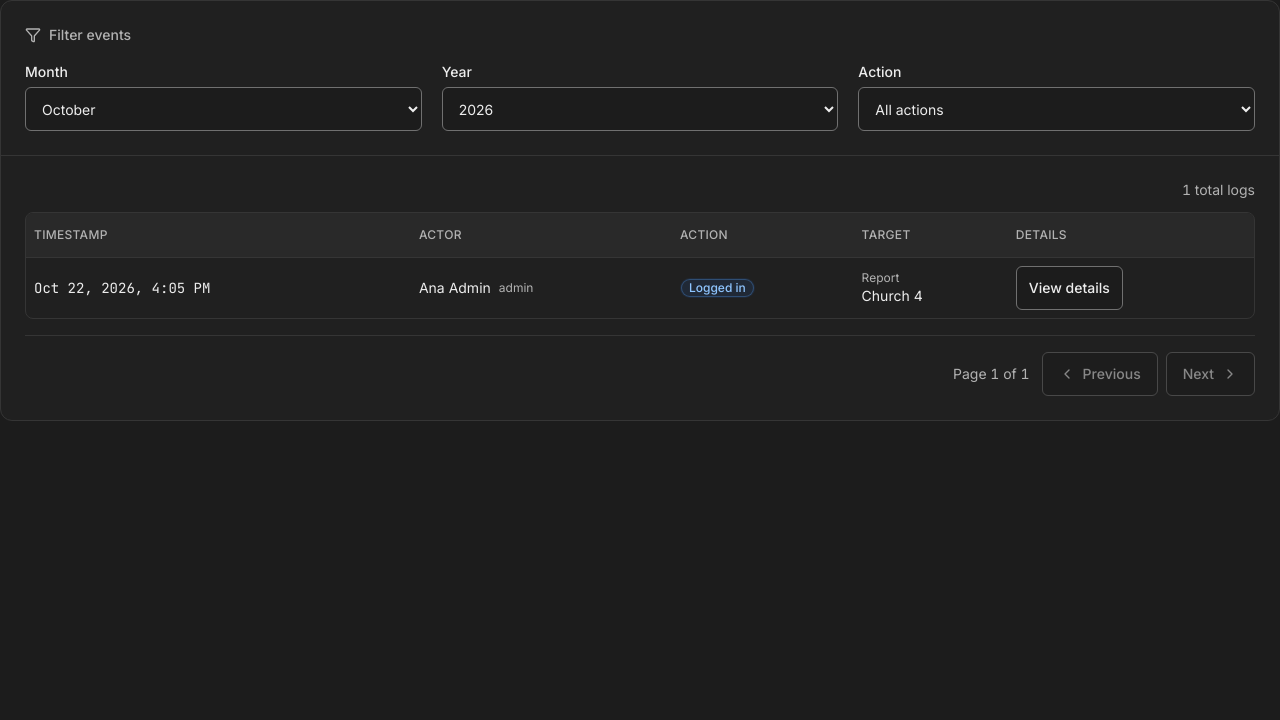
Test: audit logs: details › says when there is nothing more to show
Step 1. Click the button "View details" → (1069, 288), box [1016,266,1123,310]
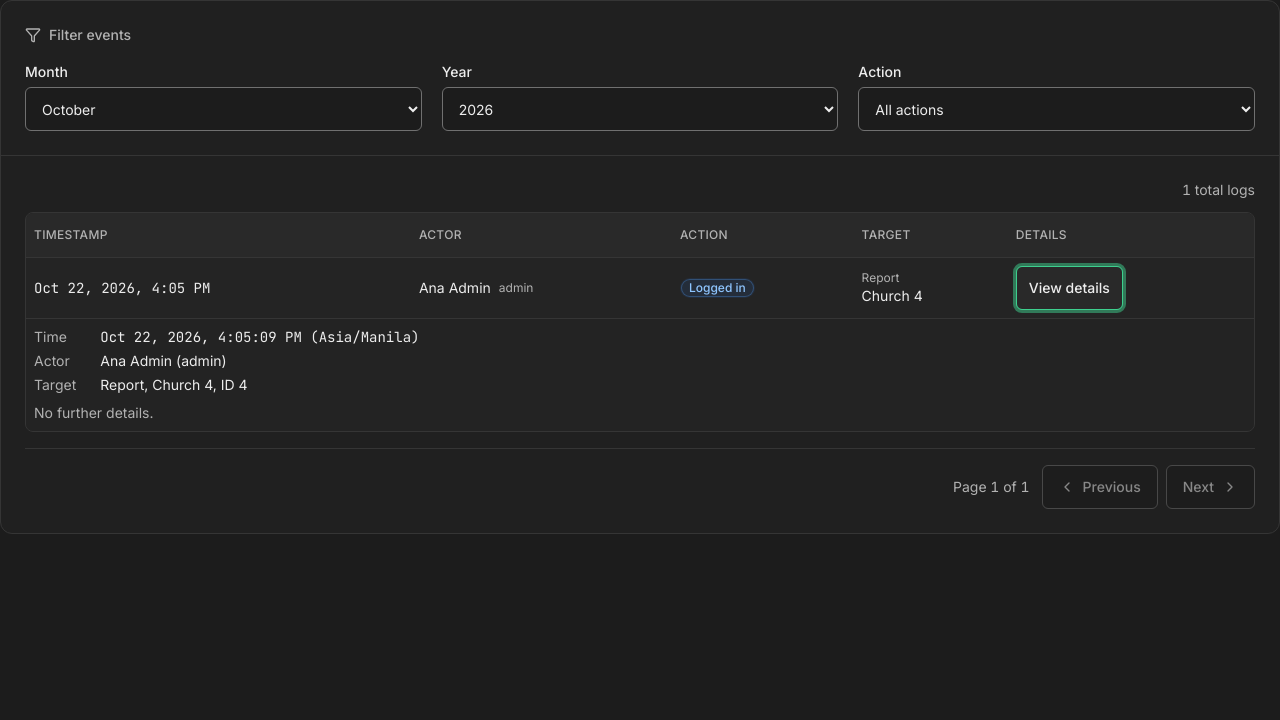
Now the text "No further details." is shown, box [34,404,154,420]
